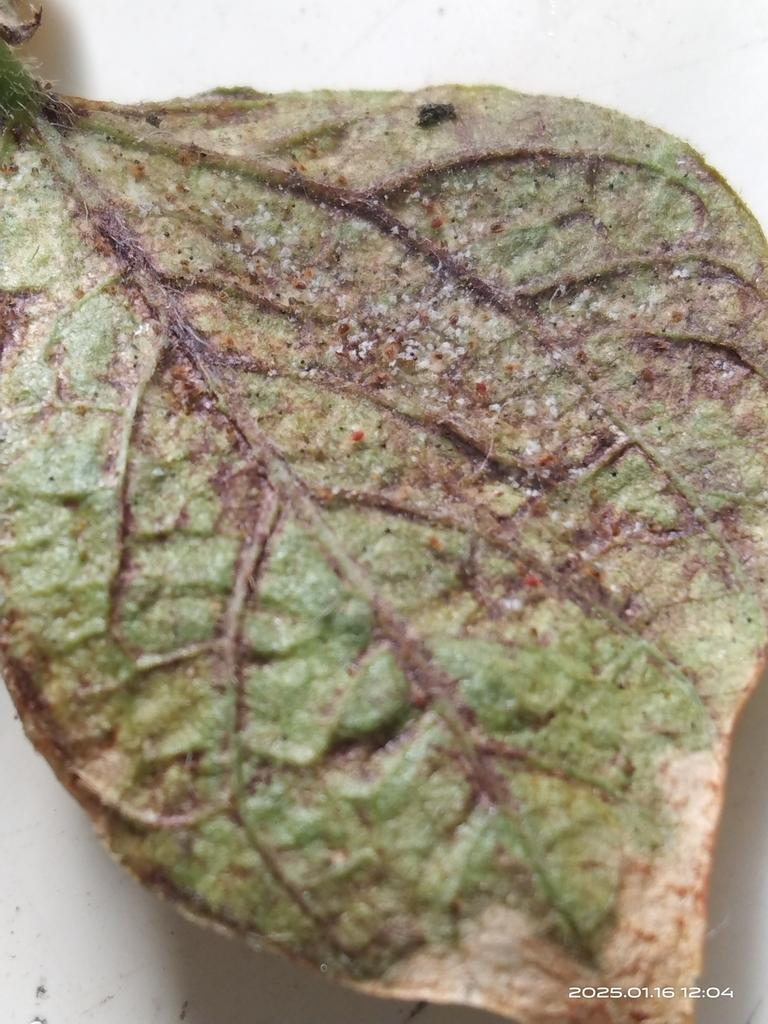tiny_pests: (342, 420, 373, 450), (520, 572, 548, 597), (534, 449, 559, 475), (473, 375, 492, 399)
